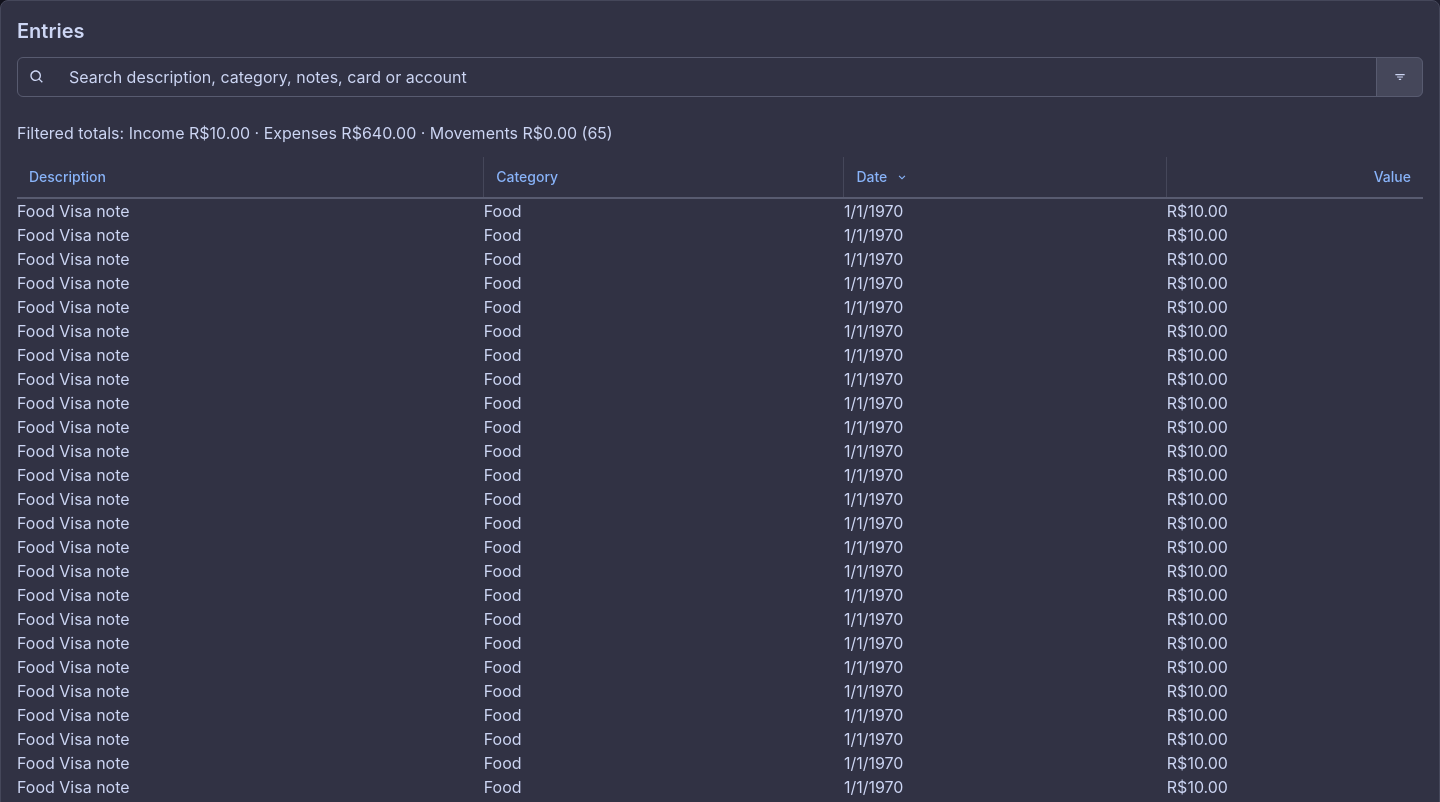
Test case: searches and filters the unified list in en
Type "visa" into the search field at (718, 77), box [61,57,1376,97]
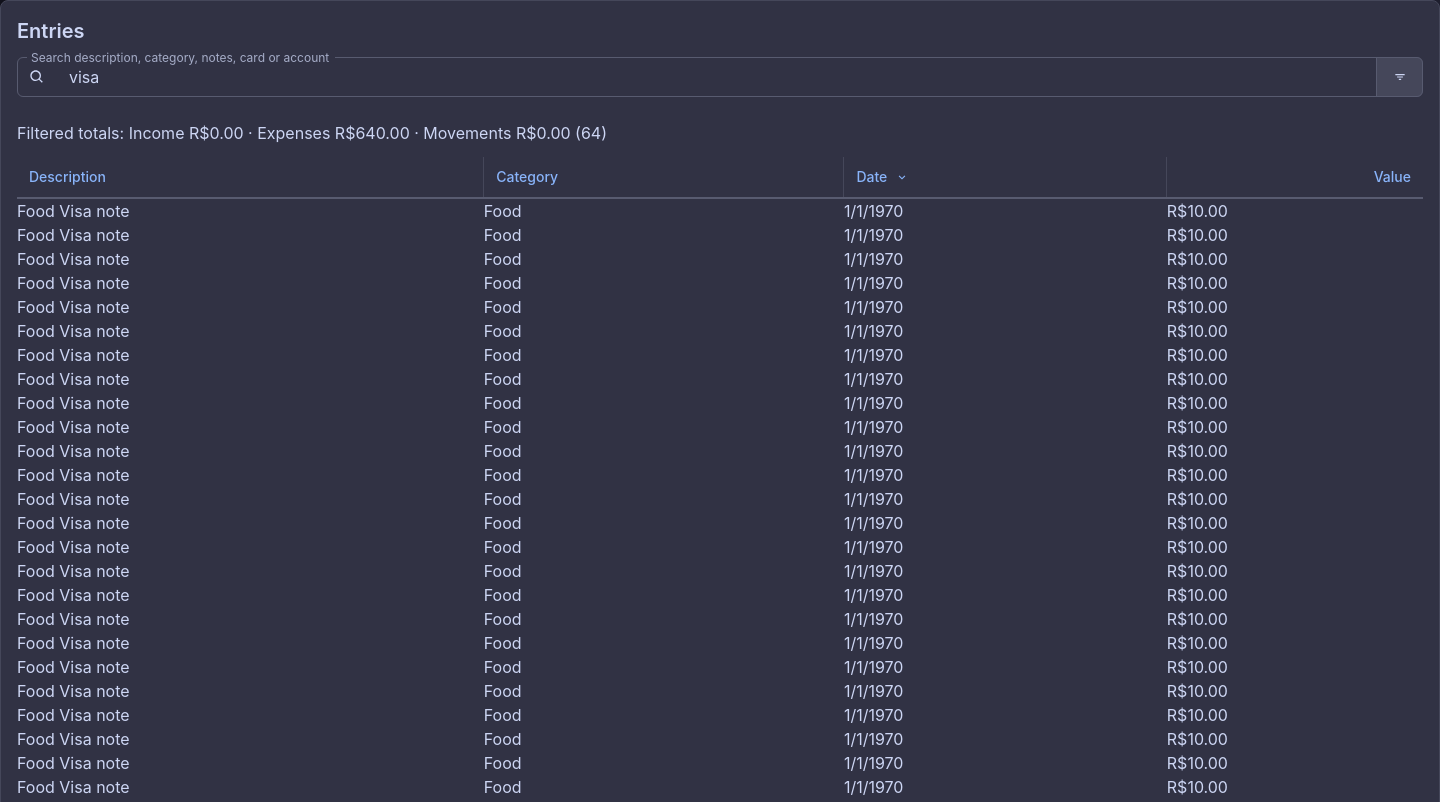
Result: the text "(64)" is shown at [17,123,607,143]
Click the button named "Filters" at (1400, 77), box [1376,57,1423,97]
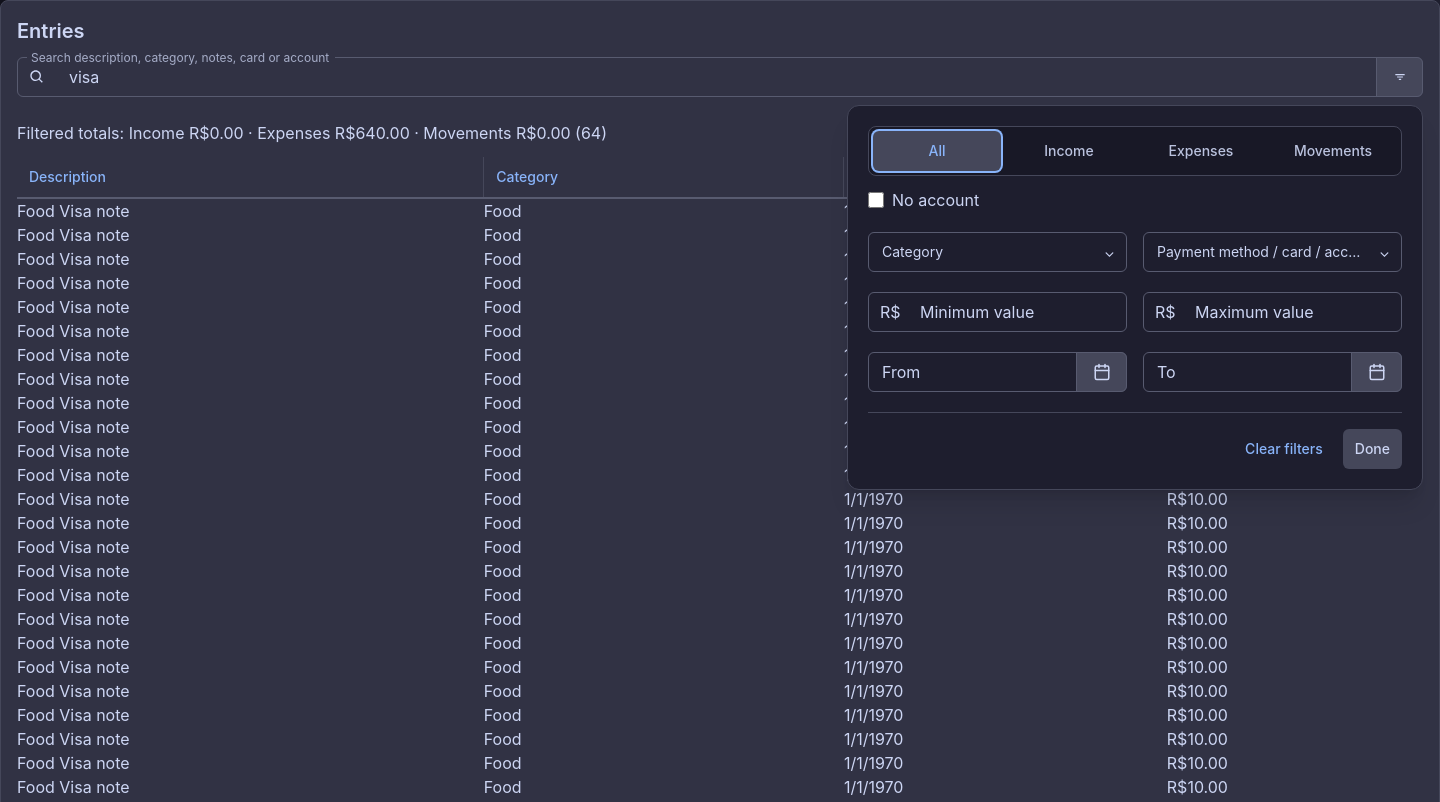
Click the button "Income" at (1069, 151), box [1005,131,1133,171]
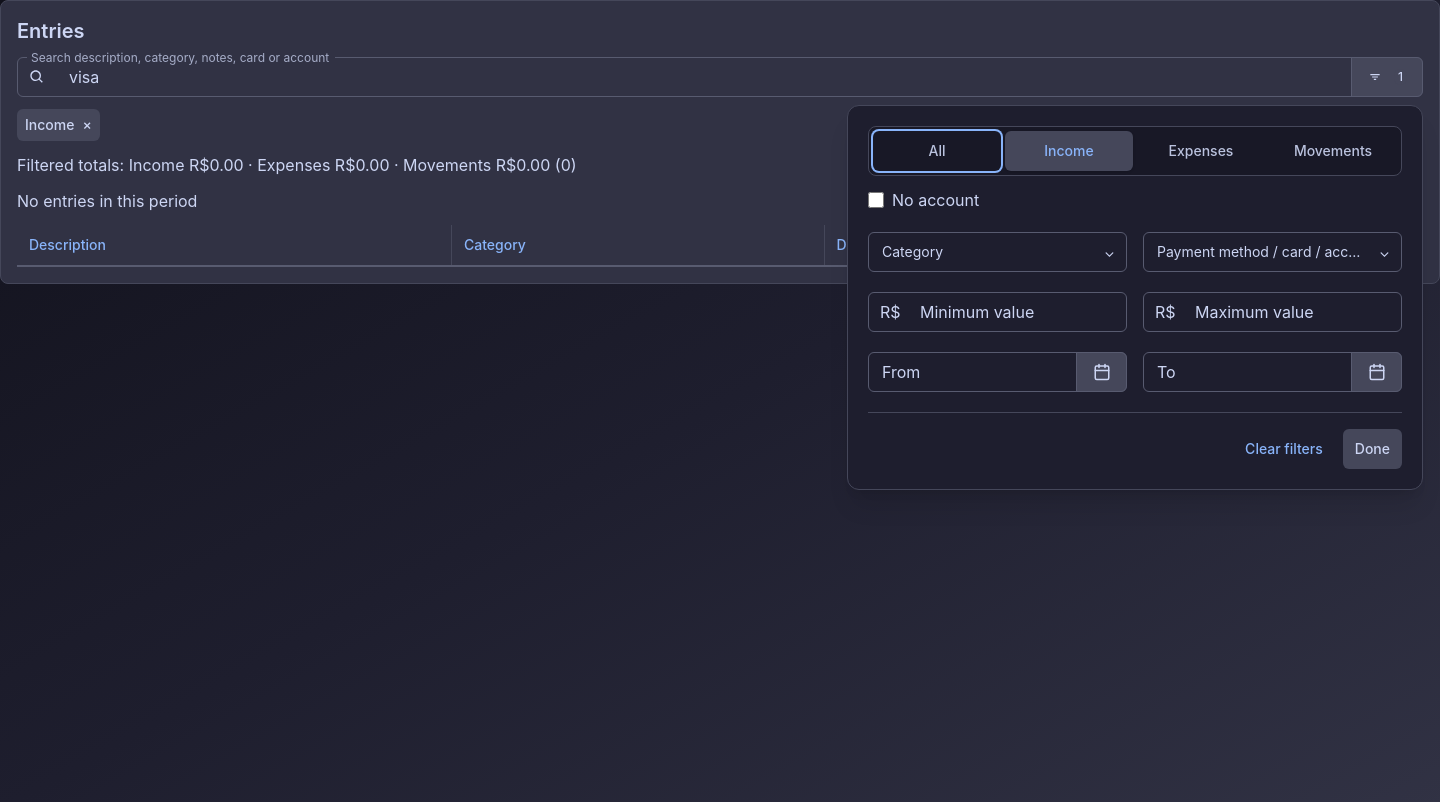
Result: the text "(0)" is shown at [17,155,577,175]
